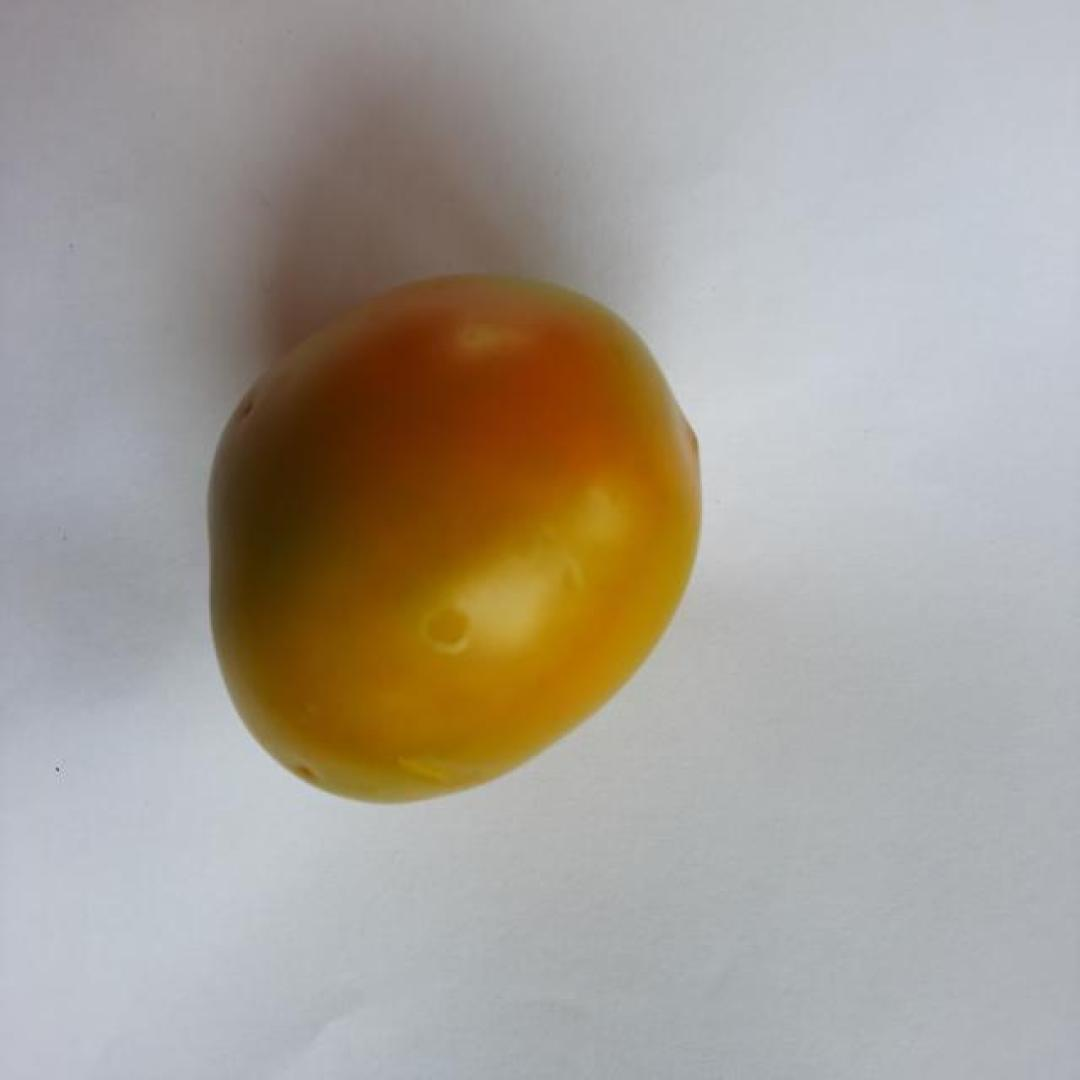setengah_matang: (199, 264, 716, 818)
